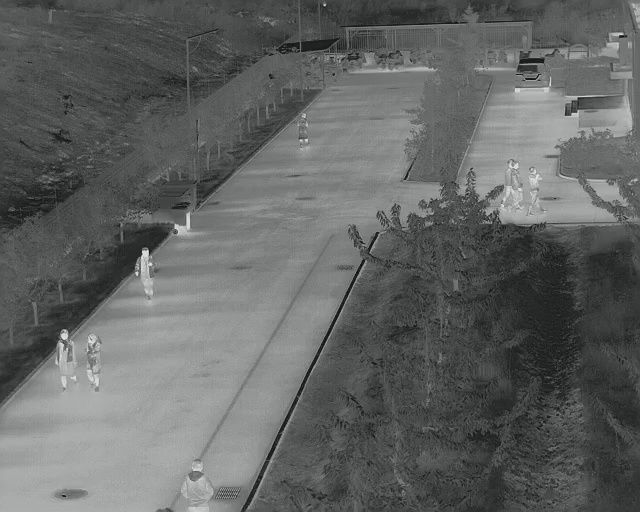person: (182, 458, 217, 512), (53, 327, 79, 389), (82, 330, 106, 392), (136, 246, 160, 299), (505, 157, 523, 211), (529, 166, 546, 216), (296, 110, 314, 151)
vehicle: (515, 56, 551, 96)
